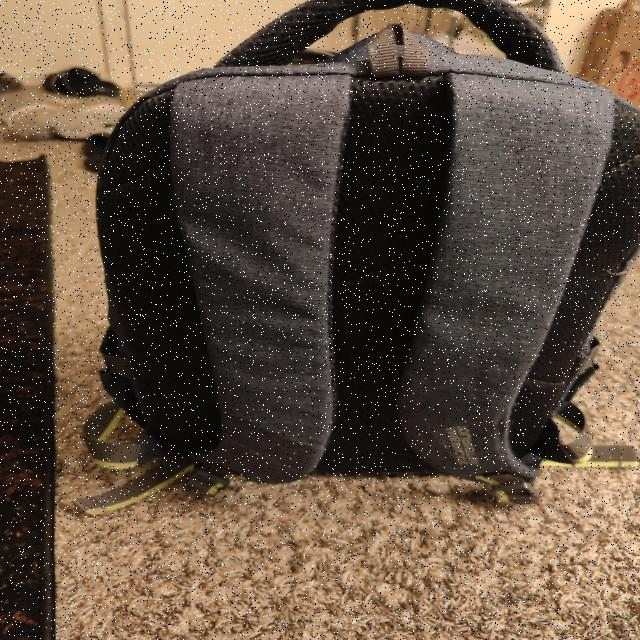bag: (131, 0, 596, 486)
